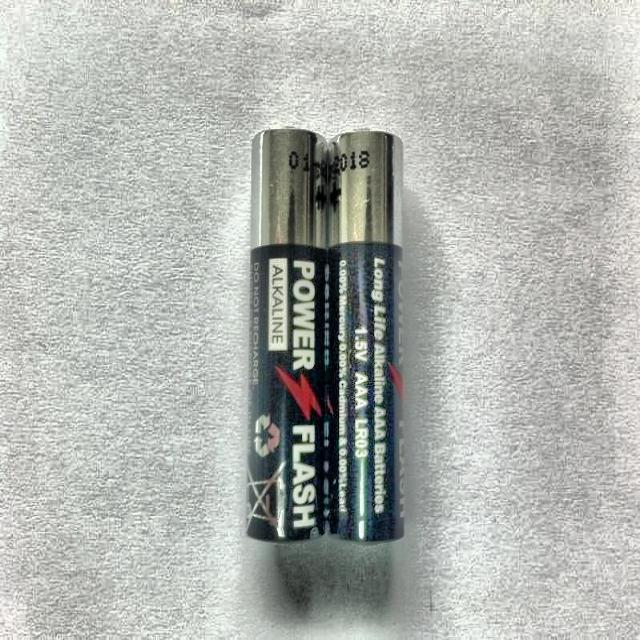Non-Valuable Waste - Batteries: (246, 129, 328, 540), (329, 132, 404, 542)
